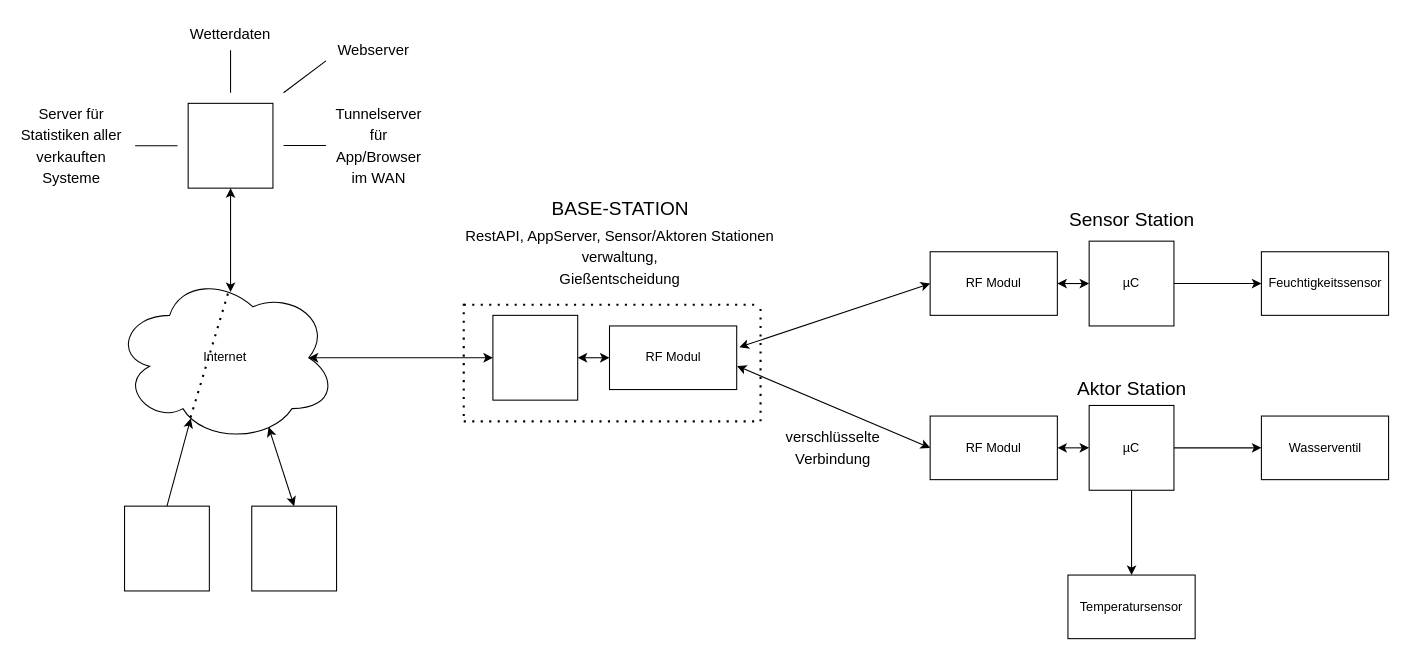
This 1407x657 diagram has some shape labels left out. The box of each missing label's shape, as (x1, y1, x2, y2) in pixels:
App: (251, 505, 337, 591)
Browser: (123, 505, 209, 591)
Raspberry: (492, 314, 578, 400)
Server: (187, 102, 273, 188)
